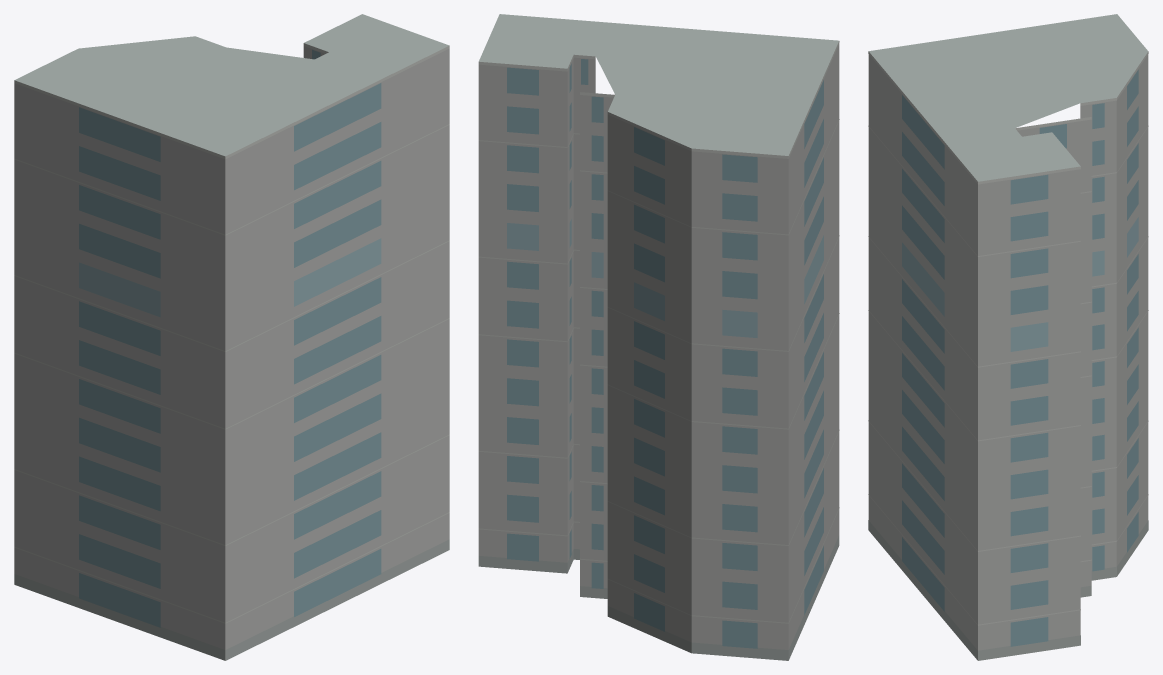
File: residential-007c0df0-64ac-4257-9d70-03c70c9f3cb7.glb
3 renders of one model, left to right at view 1: azimuth 30°, elevation 25°; view 2: azimuth 150°, elevation 25°; view 3: azimuth 270°, elevation 25°, orthographic. The views are drawn at different scales.
Parts seen in each view (by area): view 1: residential-007c0df0-64ac-4257-9d70-03c70c9f3cb7.tmp; view 2: residential-007c0df0-64ac-4257-9d70-03c70c9f3cb7.tmp; view 3: residential-007c0df0-64ac-4257-9d70-03c70c9f3cb7.tmp.
Boxes of the visible parts, <box> form: residential-007c0df0-64ac-4257-9d70-03c70c9f3cb7.tmp: <box>14,14,449,660</box>; residential-007c0df0-64ac-4257-9d70-03c70c9f3cb7.tmp: <box>478,14,839,660</box>; residential-007c0df0-64ac-4257-9d70-03c70c9f3cb7.tmp: <box>868,14,1148,660</box>.
Size of the model in its own units: 32.32 by 43 by 22.79.
